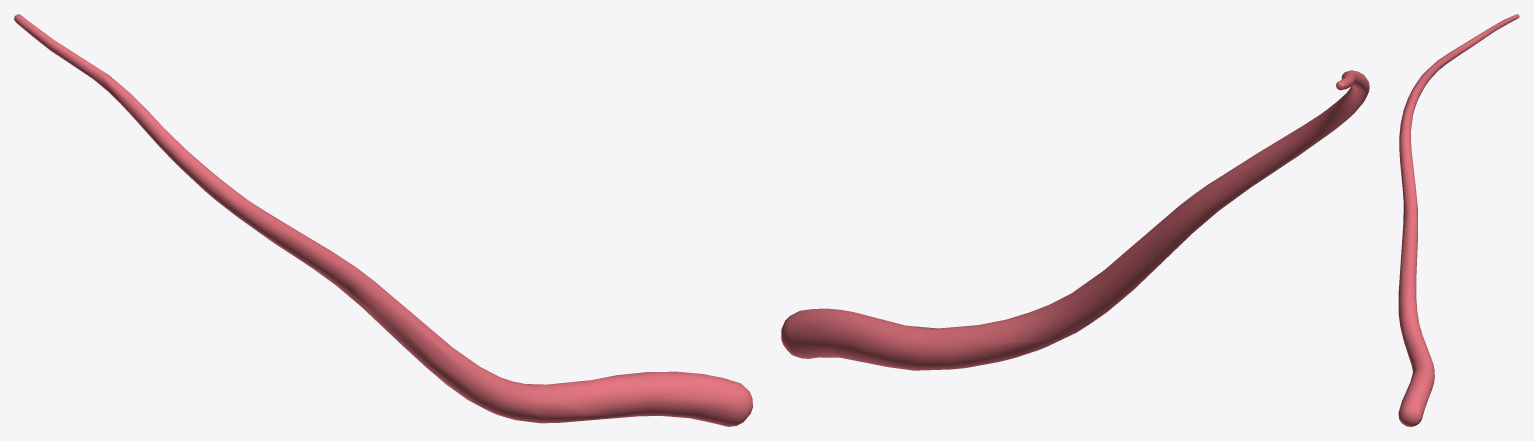
Rendered from fma70442_fj3076.glb.
The picture shows the model from 3 angles, left to right: view 1: azimuth 30°, elevation 25°; view 2: azimuth 150°, elevation 25°; view 3: azimuth 270°, elevation 25°; orthographic projection. The views are drawn at different scales.
Visible parts, largest first — view 1: FMA70442_FJ3076; view 2: FMA70442_FJ3076; view 3: FMA70442_FJ3076.
Boxes of the visible parts, x1,y1,x2,y2 form: FMA70442_FJ3076: [14, 14, 752, 426]; FMA70442_FJ3076: [781, 70, 1369, 370]; FMA70442_FJ3076: [1398, 14, 1519, 426].
Size of the model in its own units: 0.0618 by 0.0451 by 0.0194.
